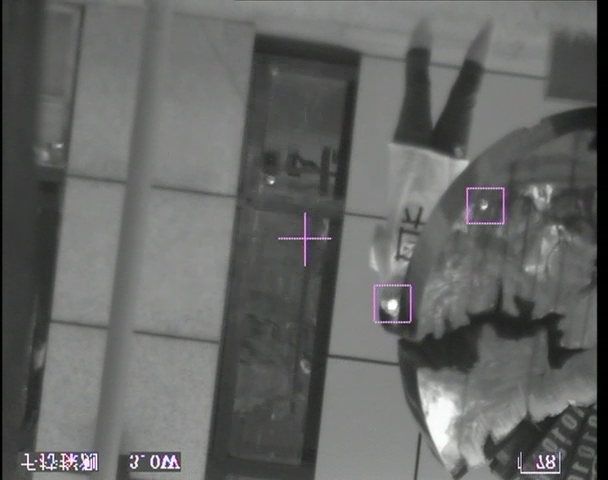my: (385, 298, 397, 310)
